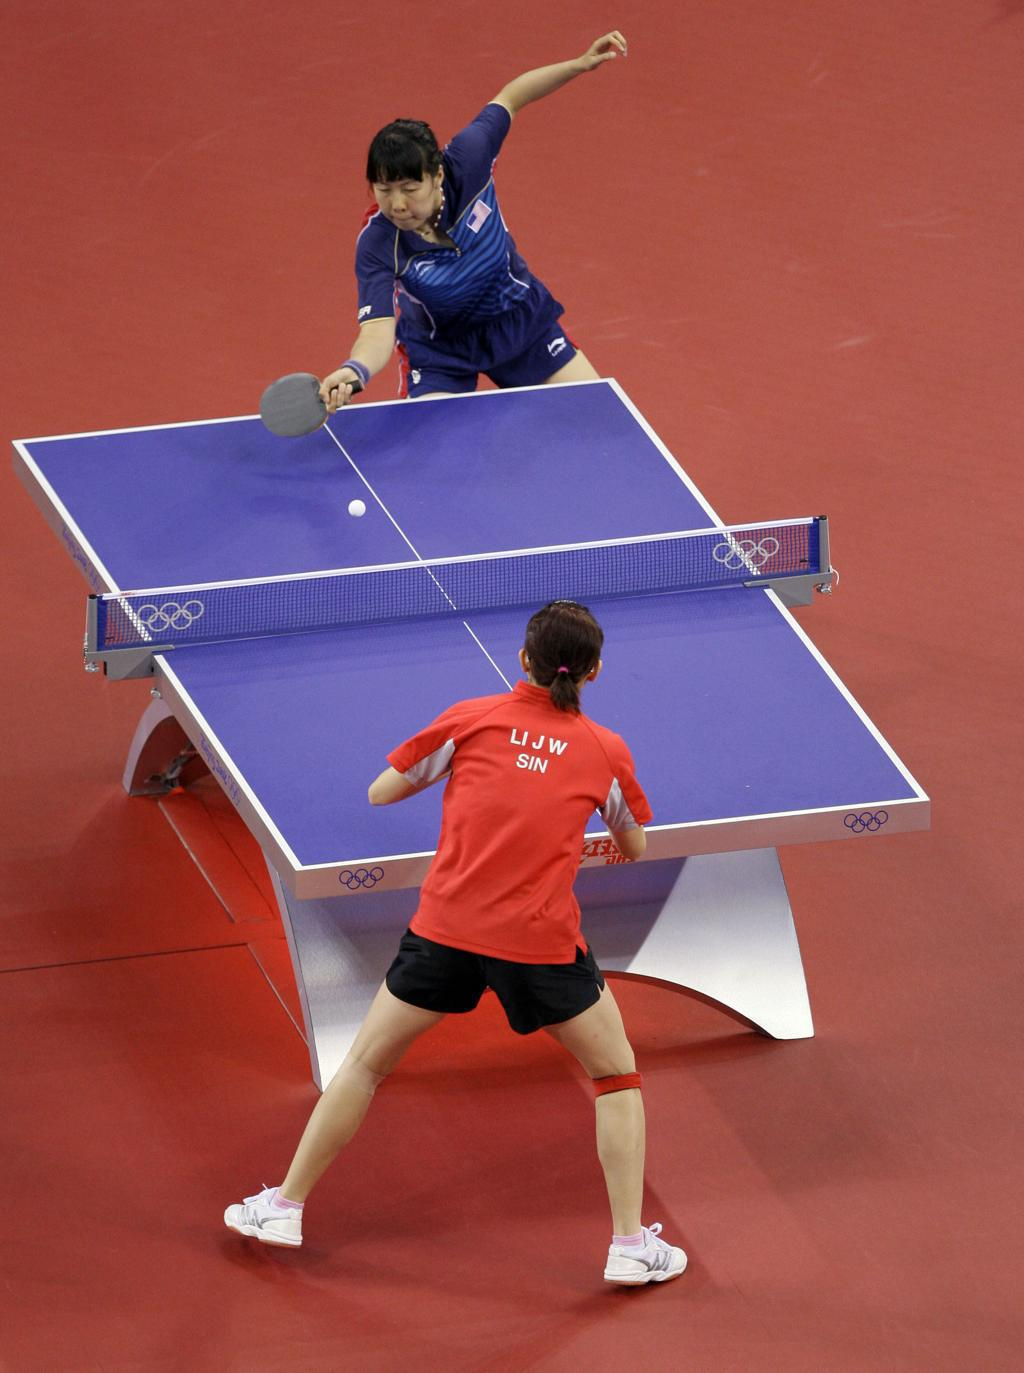face: (371, 148, 433, 236)
